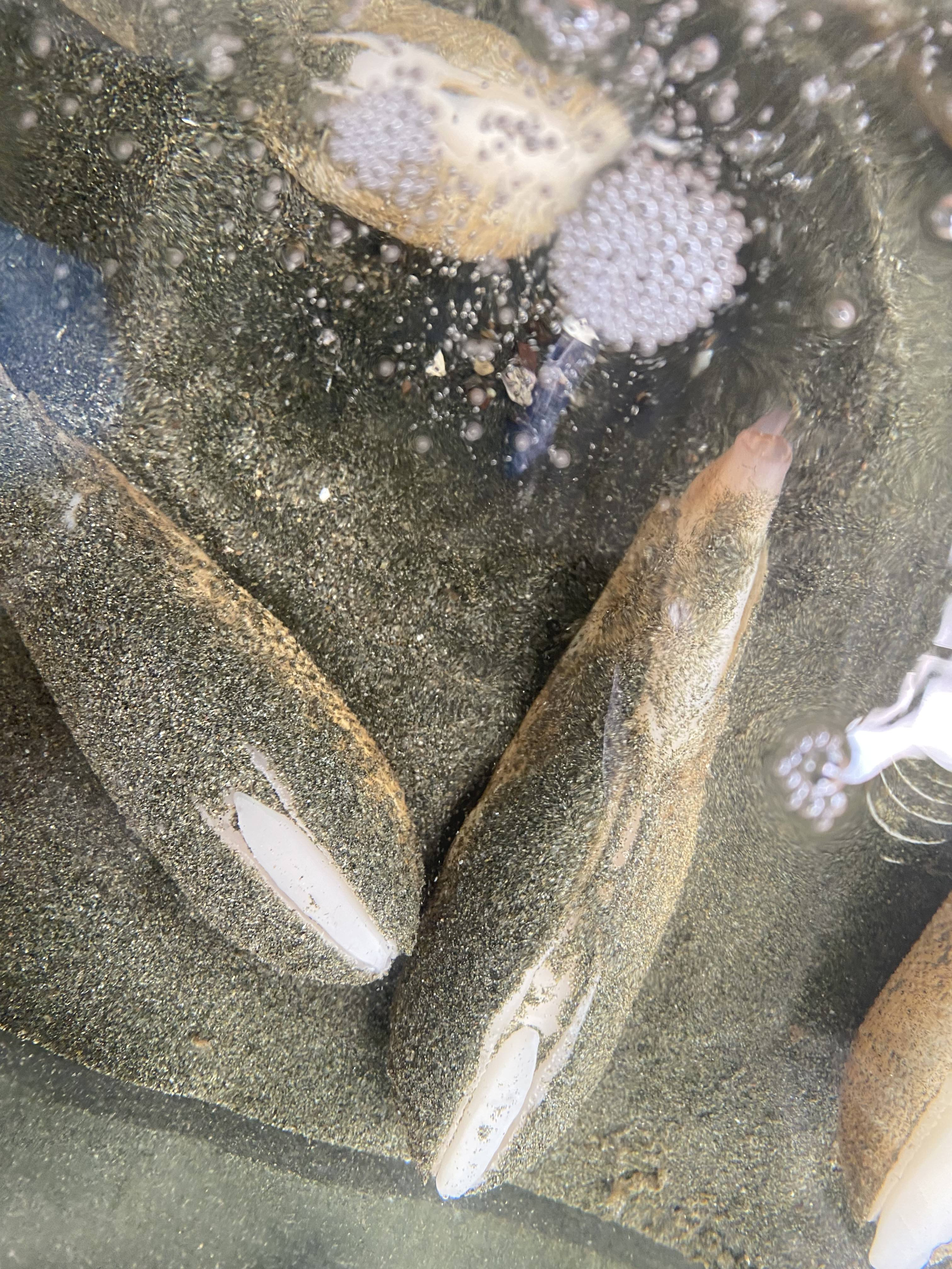Healthy: (390, 415, 790, 1197)
